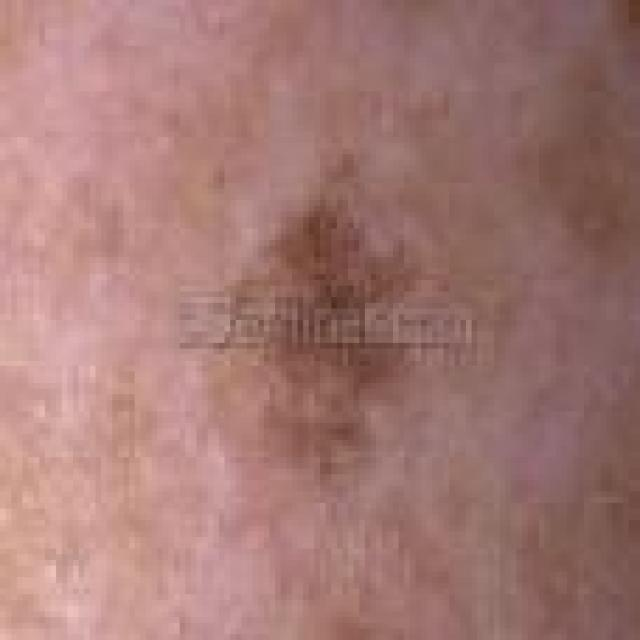Melasma: (210, 173, 444, 467)
